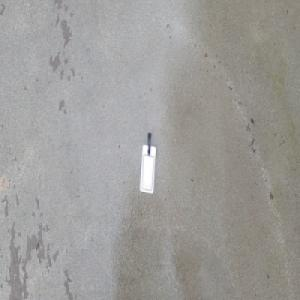LuggageTag: (139, 130, 157, 195)
